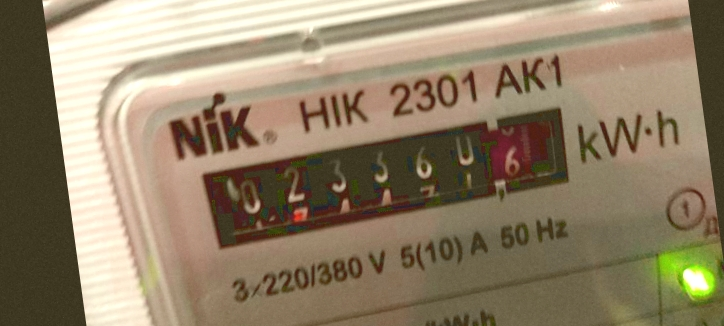0: (233, 172, 264, 217), (449, 128, 477, 168)
2: (276, 160, 307, 203)
3: (323, 153, 349, 195), (364, 145, 391, 185)
6: (405, 139, 437, 183), (499, 141, 524, 179)
screen: (175, 90, 588, 261)
